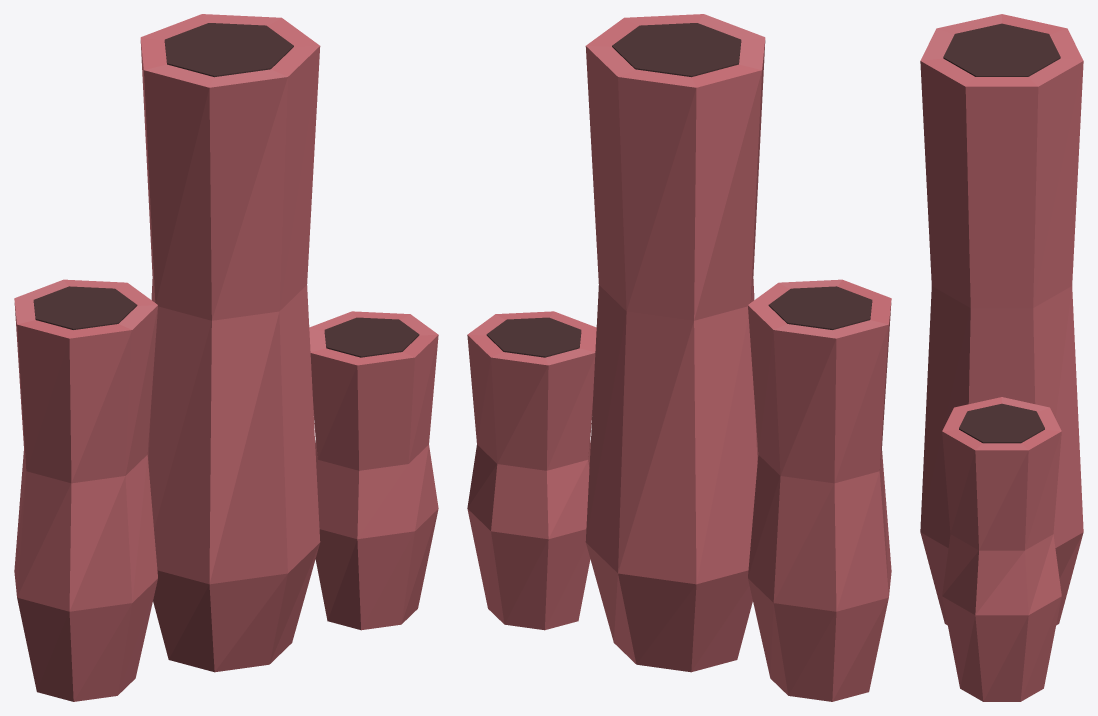
File: bd_z2_tube_sponge.glb
3 views of the same model, side by side, from view 1: azimuth 30°, elevation 25°; view 2: azimuth 150°, elevation 25°; view 3: azimuth 270°, elevation 25° (orthographic). The views are drawn at different scales.
Visible parts, largest first — view 1: bd_z2_tube_sponge; view 2: bd_z2_tube_sponge; view 3: bd_z2_tube_sponge.
Boxes of the visible parts, x1,y1,x2,y2 form: bd_z2_tube_sponge: (14, 14, 438, 701); bd_z2_tube_sponge: (467, 14, 891, 701); bd_z2_tube_sponge: (920, 14, 1083, 701).
Size of the model in its own units: 4 by 5.6 by 1.46.
